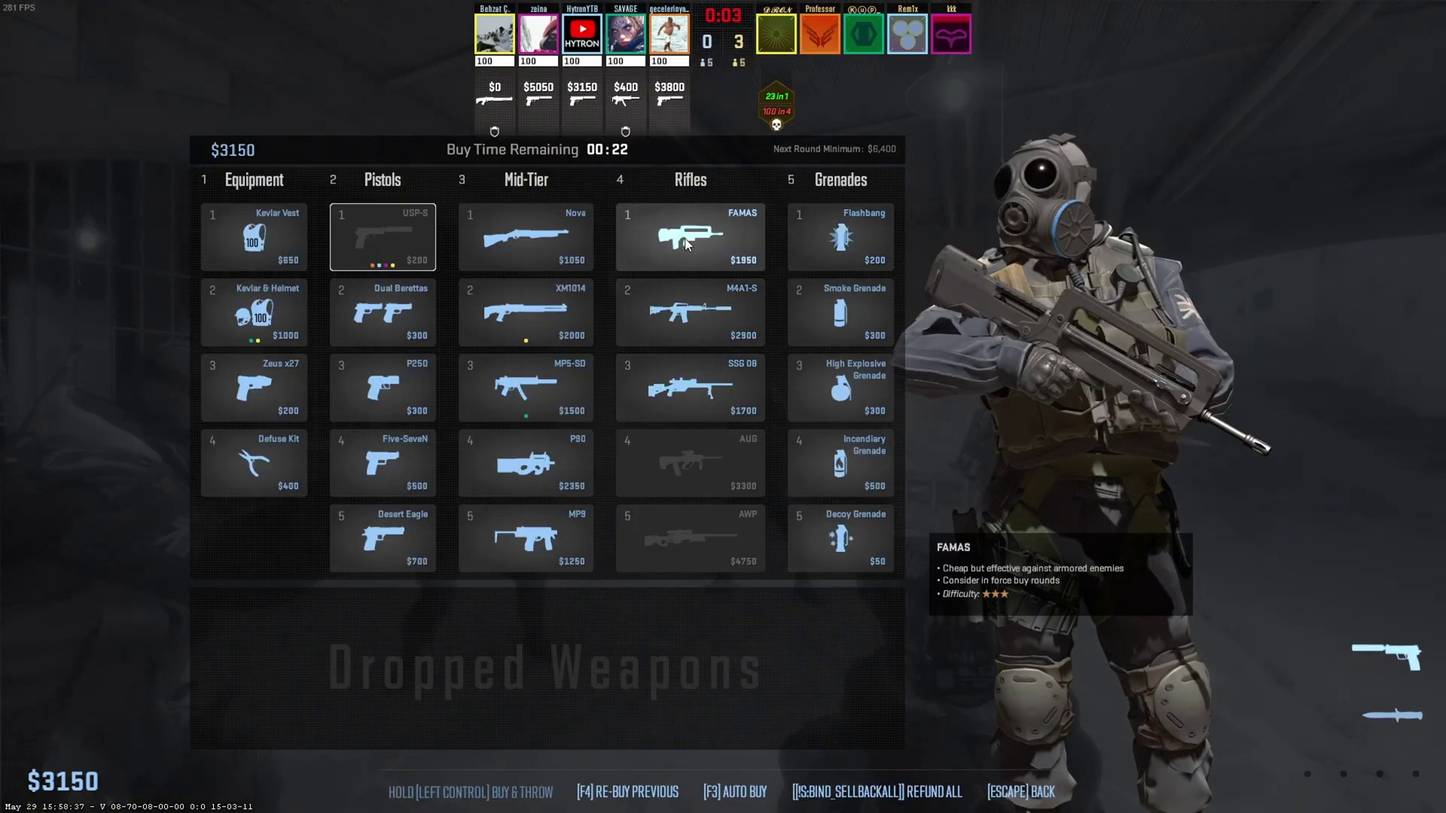CT: (958, 135, 1217, 811)
